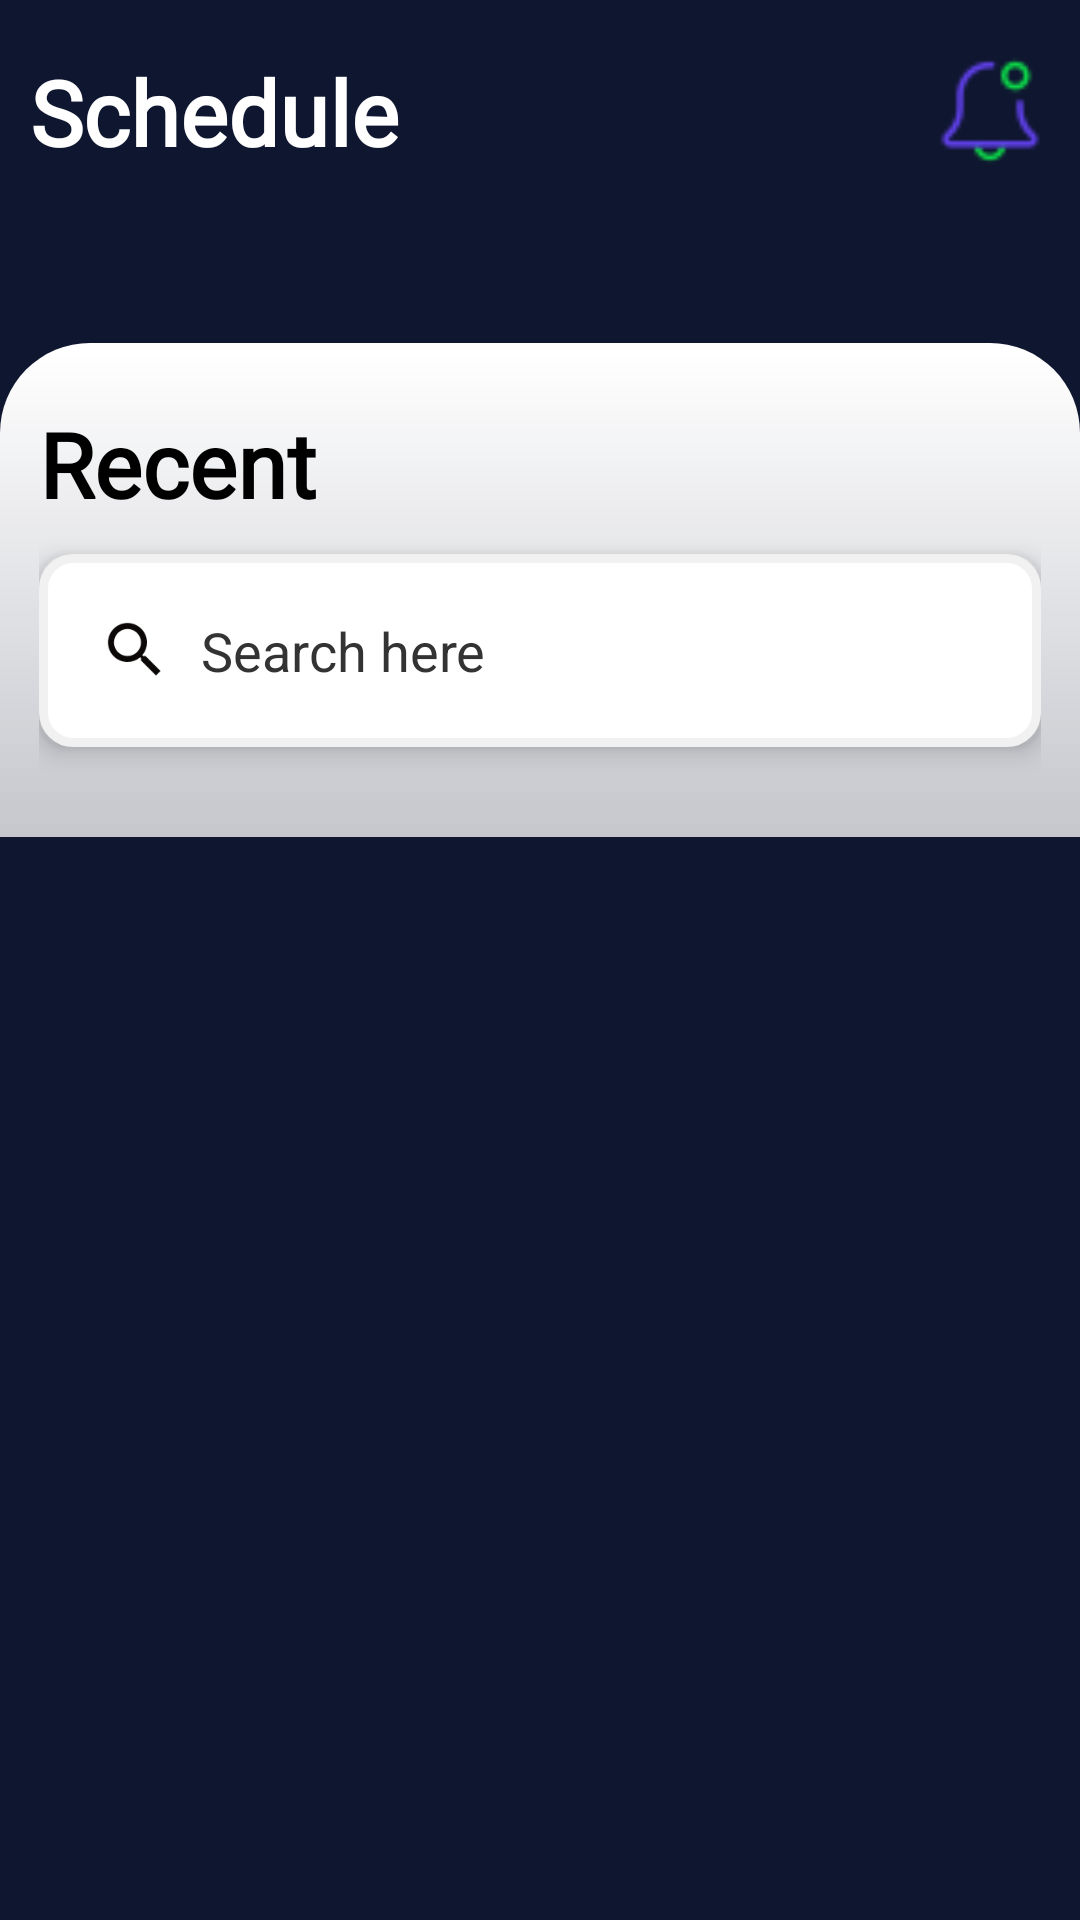

Where icons sit on this 1080*1920 app screen, as detection(x1, y1, x2, y2):
notification: detection(940, 60, 1040, 161)
